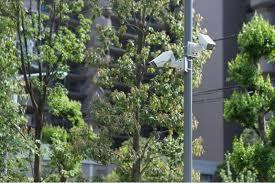tutu: (149, 47, 177, 72), (195, 32, 218, 54)
